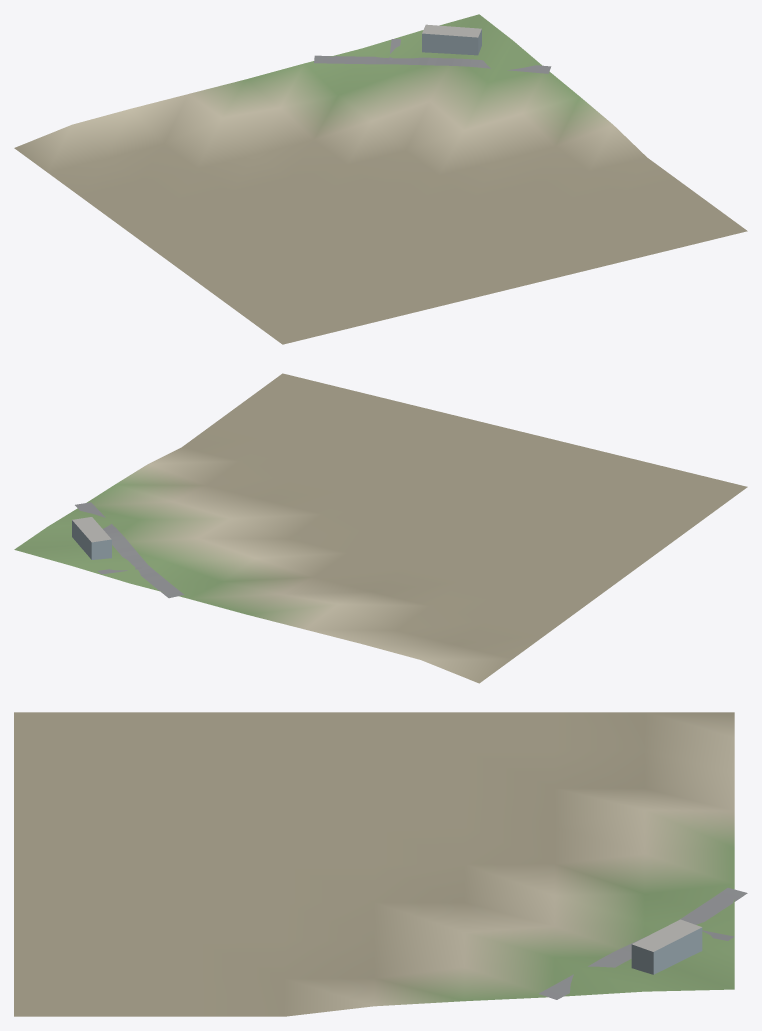
The picture shows the model from 3 angles, top to bottom: view 1: azimuth 30°, elevation 25°; view 2: azimuth 150°, elevation 25°; view 3: azimuth 270°, elevation 25°; orthographic projection. The views are drawn at different scales.
Parts seen in each view (by area): view 1: Lo; view 2: Lo; view 3: Lo.
Boxes of the visible parts, left/top/right/bottom form: Lo: left=14, top=14, right=747, bottom=344; Lo: left=14, top=373, right=747, bottom=683; Lo: left=14, top=712, right=747, bottom=1016.
Bounding box in the file's own units: 259 × 18.26 × 261.
